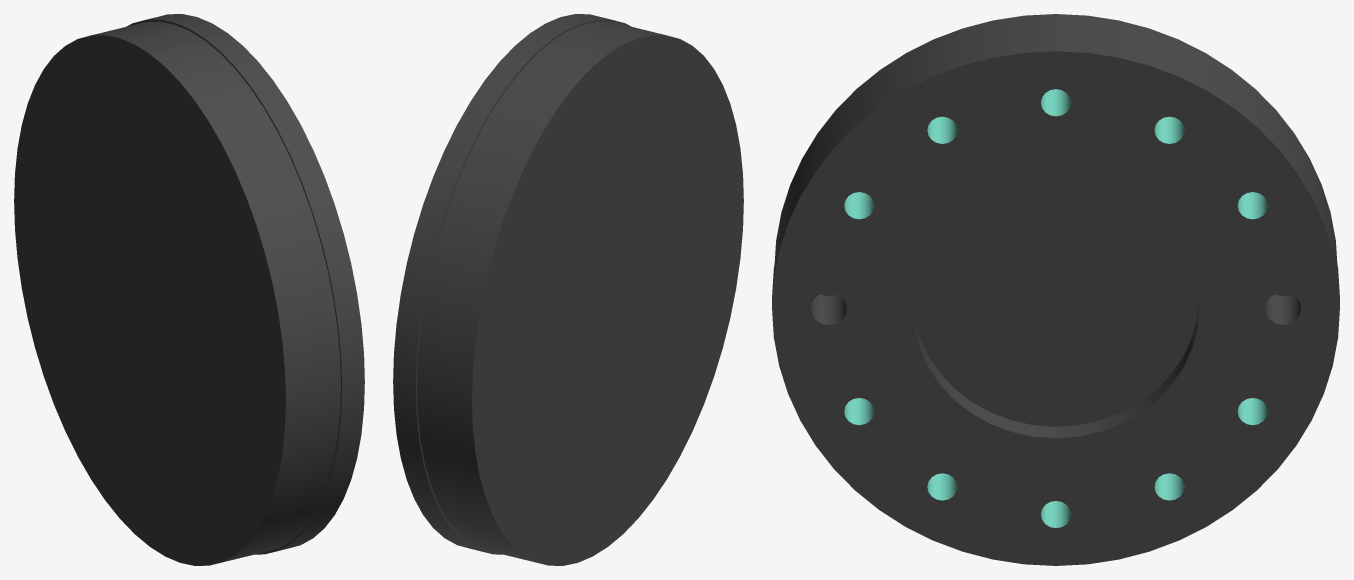
3 views of the same model, side by side, from view 1: azimuth 30°, elevation 25°; view 2: azimuth 150°, elevation 25°; view 3: azimuth 270°, elevation 25° (orthographic). The views are drawn at different scales.
Visible parts, largest first — view 1: Mesh_0; view 2: Mesh_0; view 3: Mesh_0.
Boxes of the visible parts, bbox=[...] form: Mesh_0: bbox=[14, 14, 364, 565]; Mesh_0: bbox=[393, 14, 743, 565]; Mesh_0: bbox=[772, 14, 1339, 565].
Bounding box in the file's own units: 0.0205 × 0.125 × 0.125.
